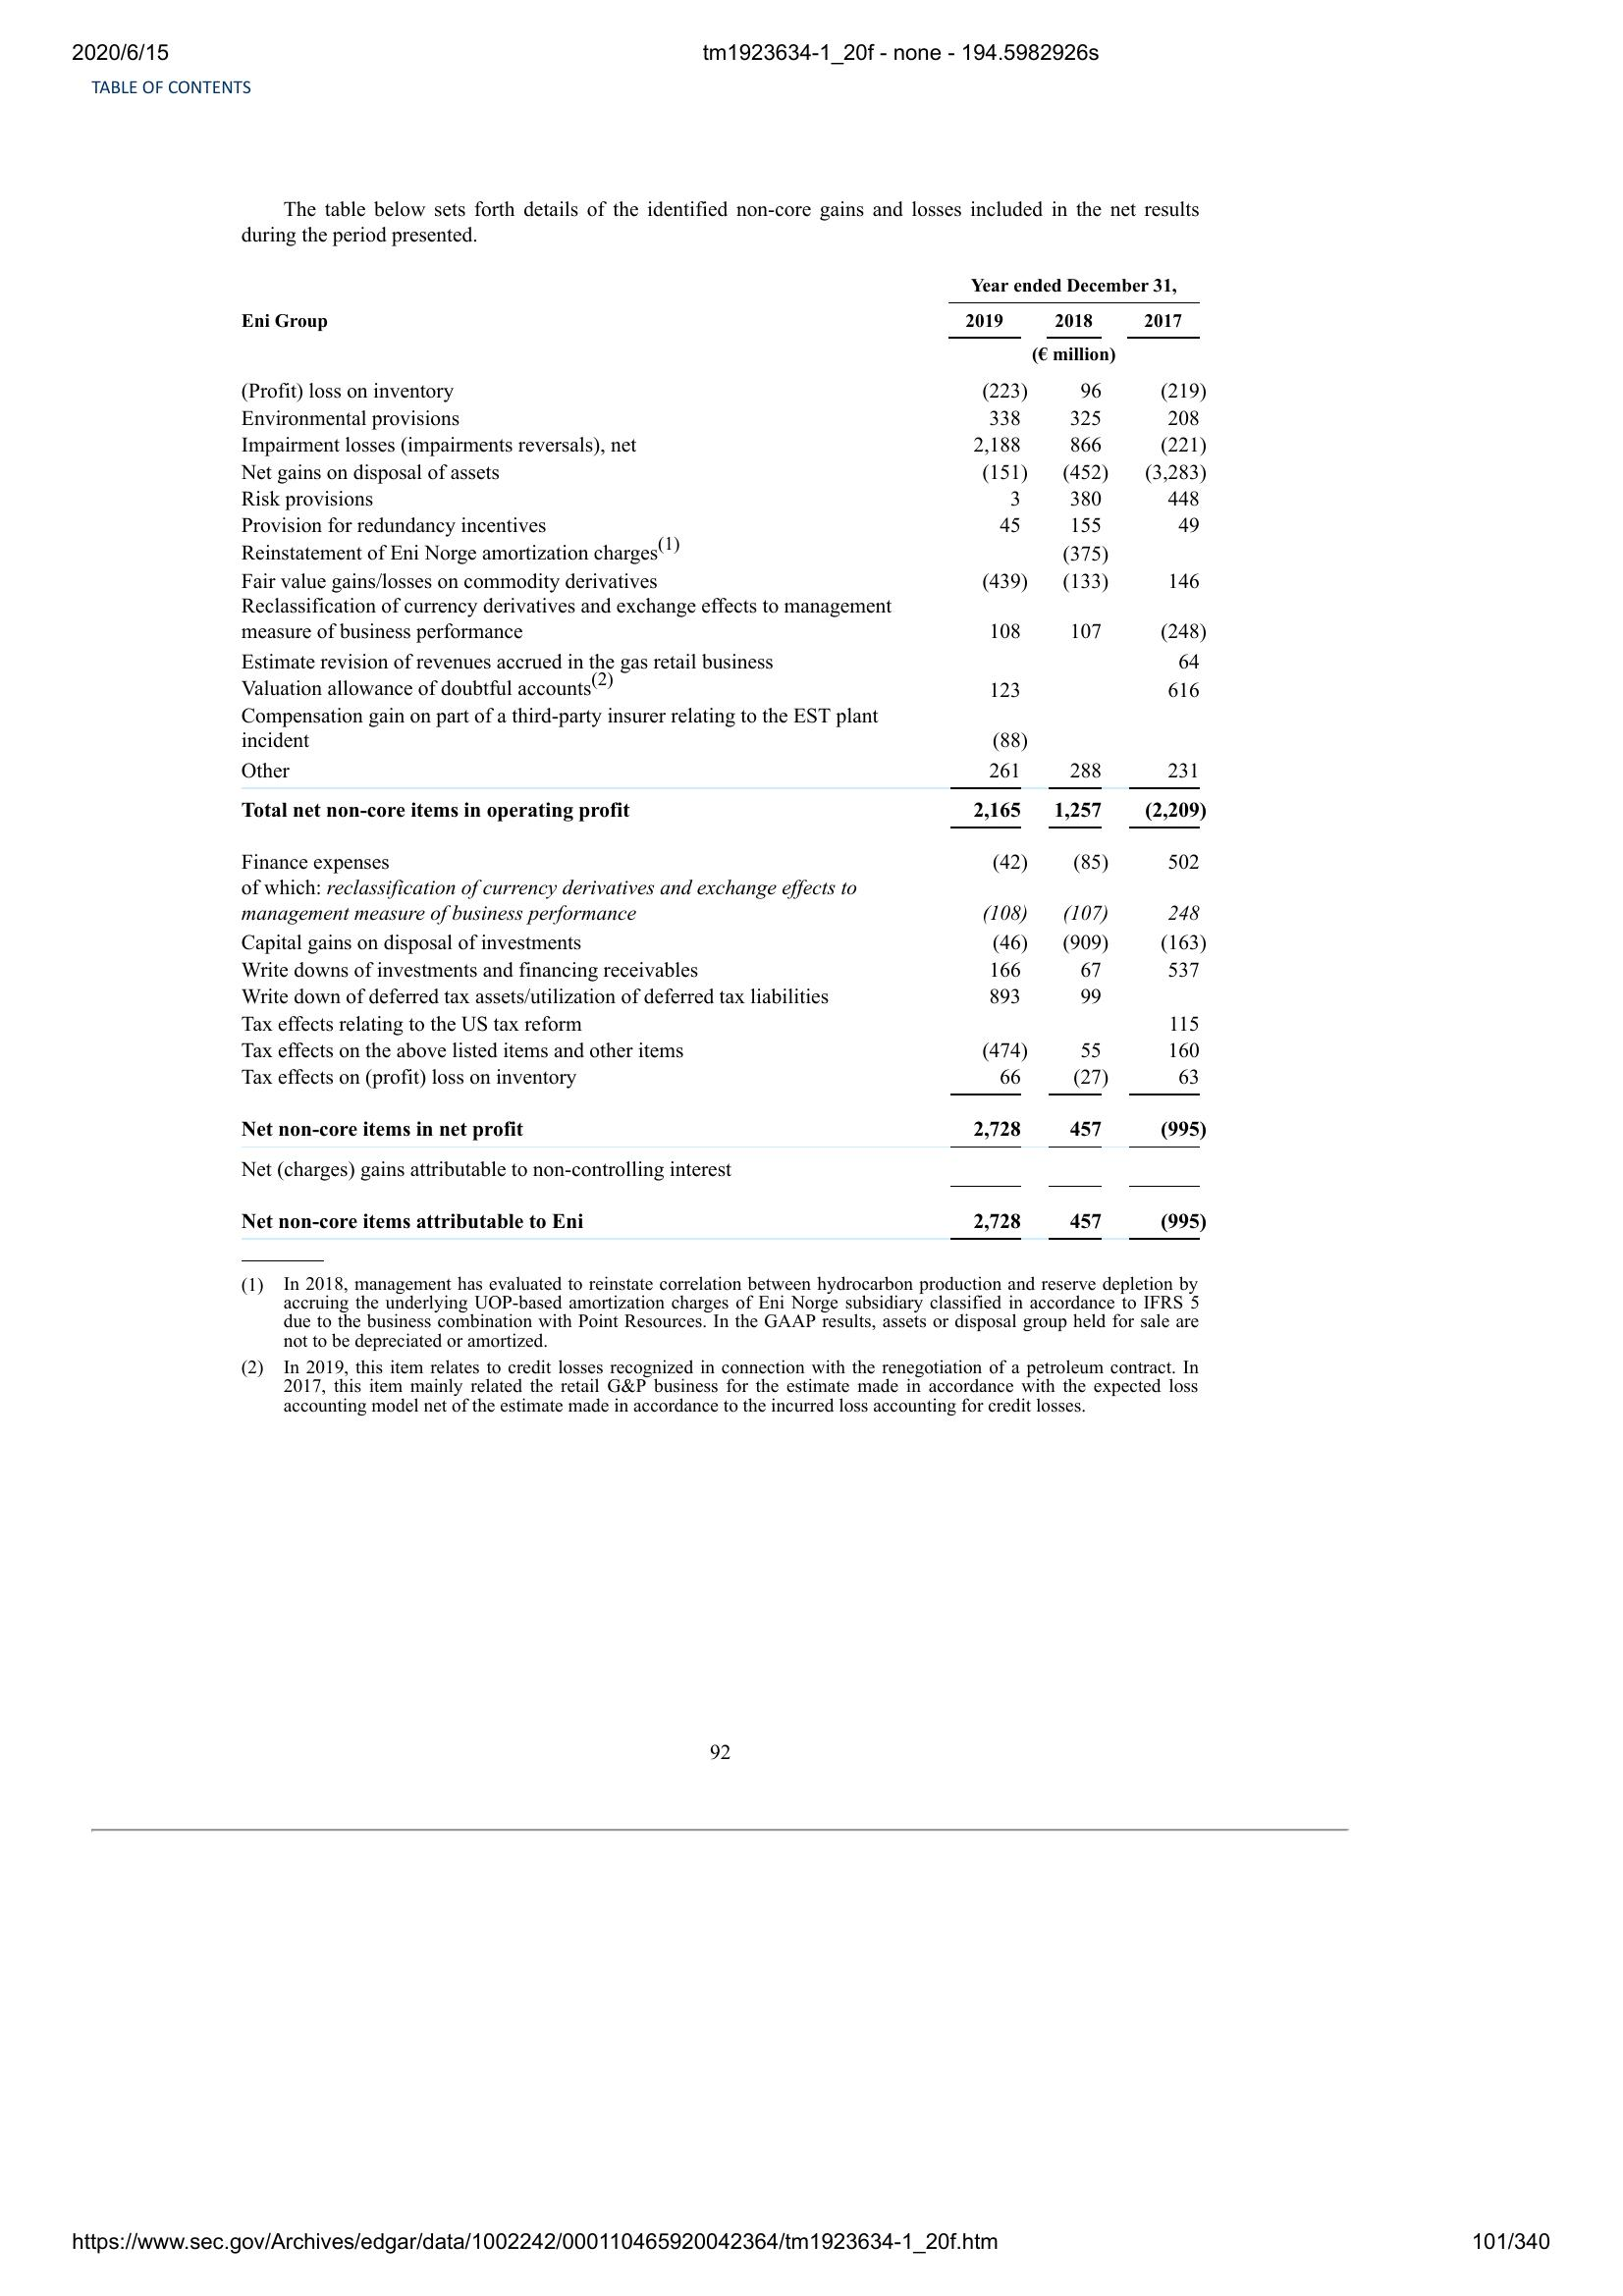table: (223, 276, 1214, 1250)
